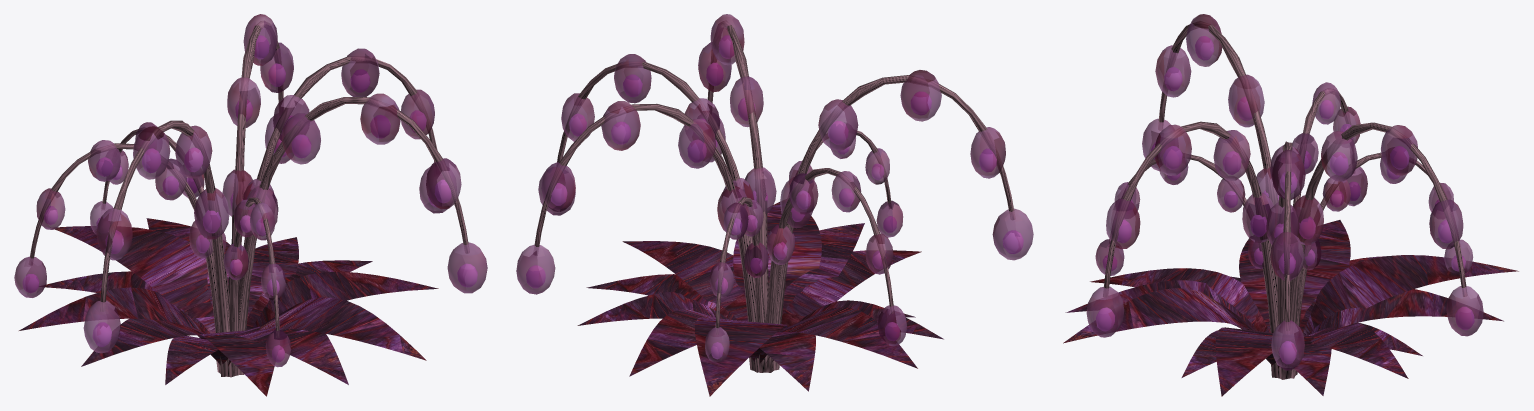
Rendered from bladder_02.glb.
The picture shows the model from 3 angles, left to right: view 1: azimuth 30°, elevation 25°; view 2: azimuth 150°, elevation 25°; view 3: azimuth 270°, elevation 25°; orthographic projection.
Parts seen in each view (by area): view 1: export; view 2: export; view 3: export.
Boxes of the visible parts, x1=… form: export: x1=14, y1=14, x2=487, y2=396; export: x1=516, y1=14, x2=1033, y2=396; export: x1=1063, y1=14, x2=1518, y2=396.
Bounding box in the file's own units: 1.65 × 1.1 × 1.52.
Materials: 4 (4 with a texture image).
